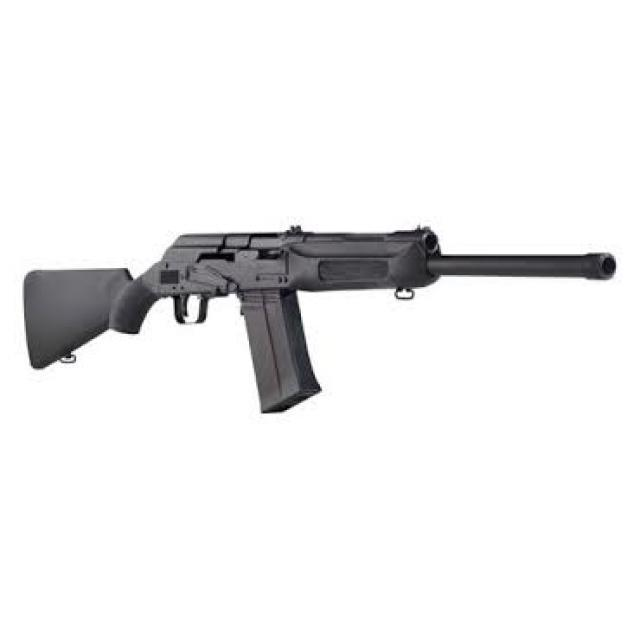weapon: (21, 221, 618, 415)
